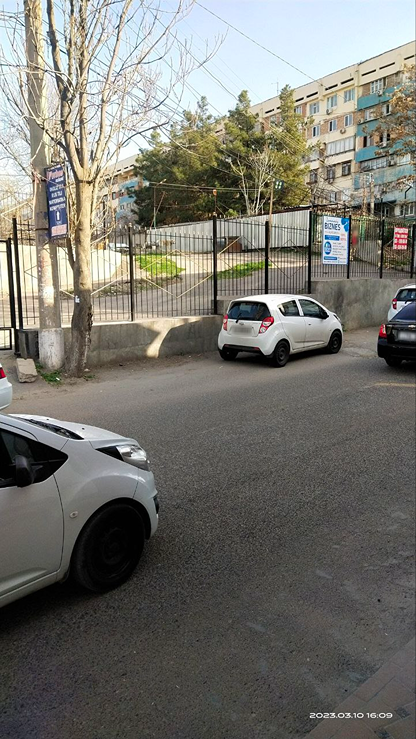car: (0, 387, 183, 620), (219, 286, 330, 366), (372, 296, 416, 366)
tree: (22, 0, 177, 361), (266, 78, 335, 213), (155, 94, 218, 222), (214, 91, 265, 214)
